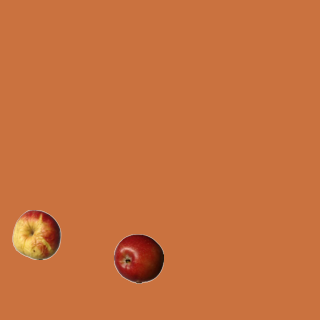Apple Braeburn: (113, 233, 163, 283)
Apple Red Yellow 1: (11, 209, 61, 259)
